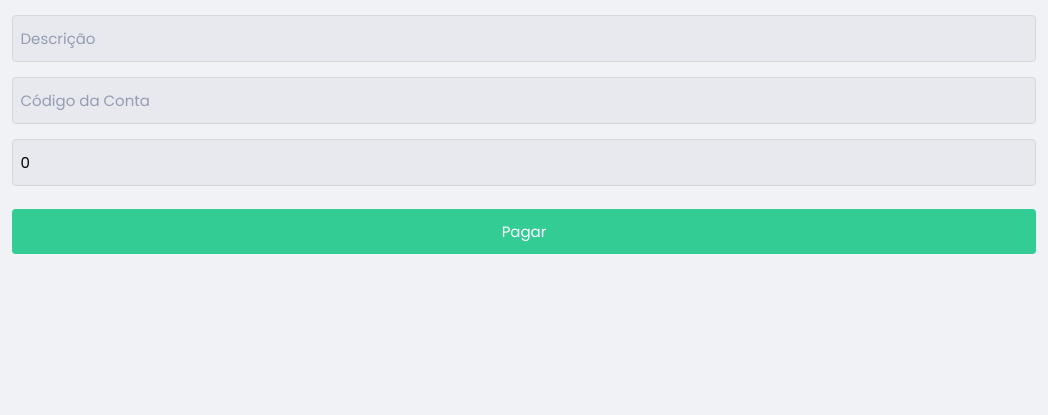
Test: Given payment form › when submiting form › when code input filled shoud show respective bill
Type "7947212" into the field with test id "code-input".
click(524, 100); type("7947212")  # box 12,77 -> 1036,124
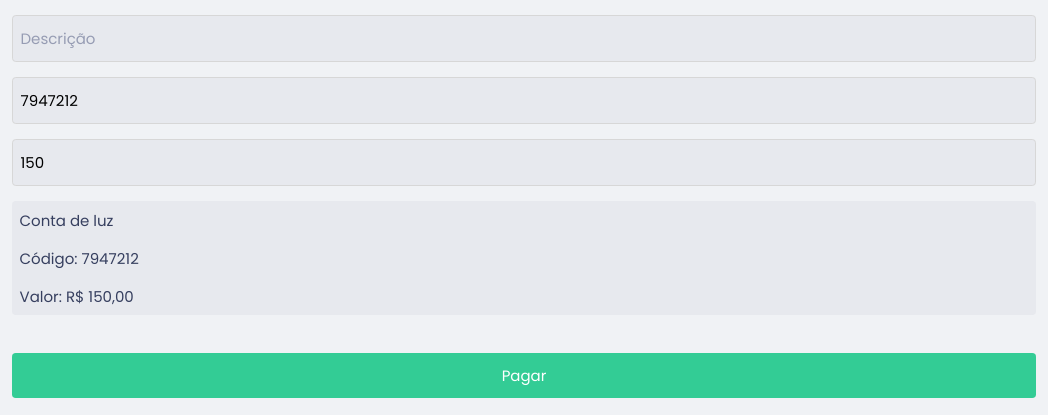
Now the element with test id "billInfo-div" is shown, box 12,201 -> 1036,315
